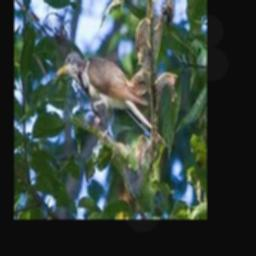Cuckoo: (57, 52, 169, 150)
